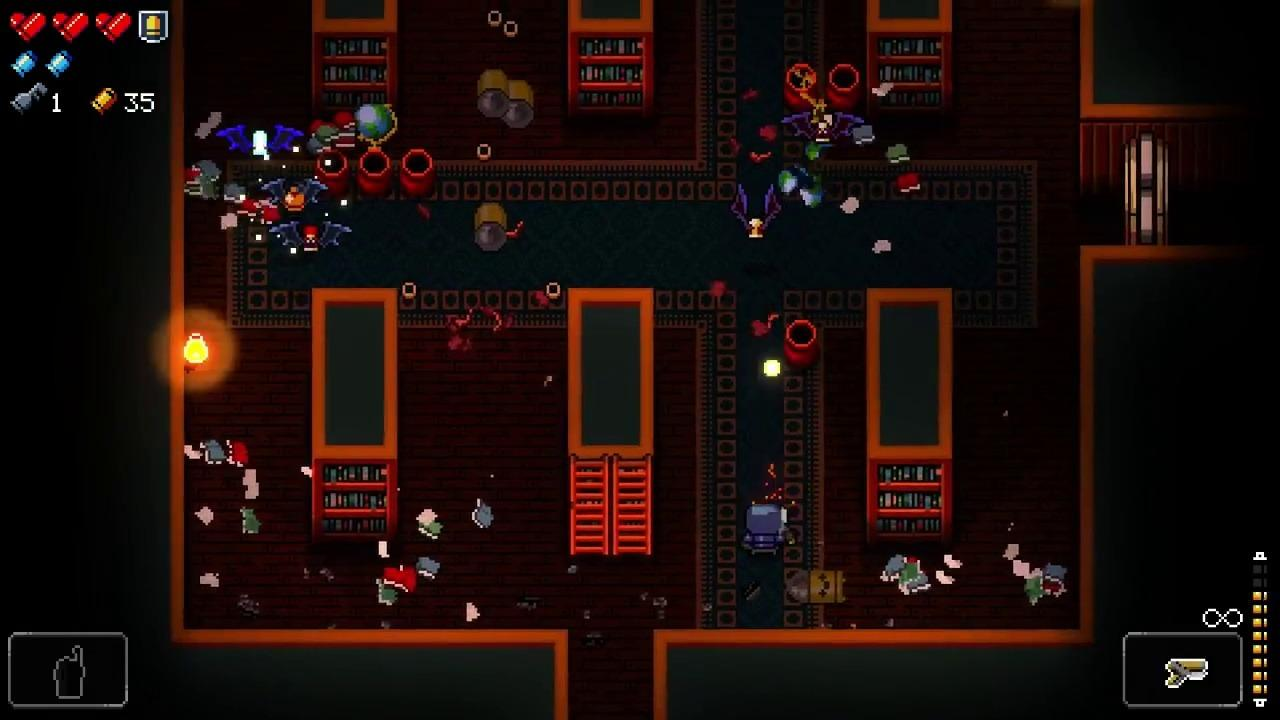bullat: (781, 111, 866, 146), (731, 183, 781, 242)
dead_bullet_kin: (786, 570, 846, 605), (499, 79, 534, 130), (478, 69, 511, 118), (476, 203, 507, 250)
locked_door: (1123, 134, 1169, 247)
player: (745, 504, 787, 555)
shotgat: (268, 222, 352, 254), (260, 176, 328, 211)
spirat: (214, 124, 304, 158)
